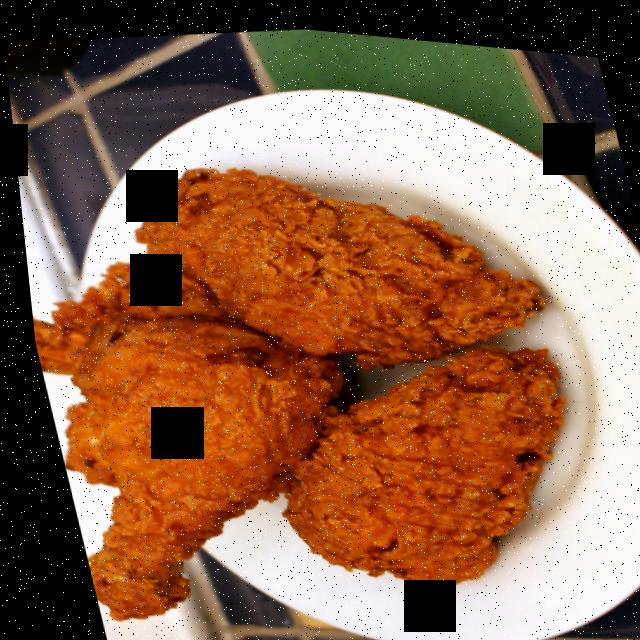Frango: (9, 105, 617, 640)
